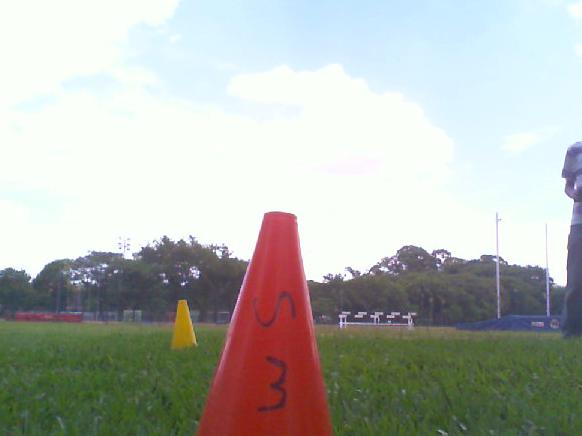0 cone: (186, 211, 339, 436), (171, 299, 198, 349)
